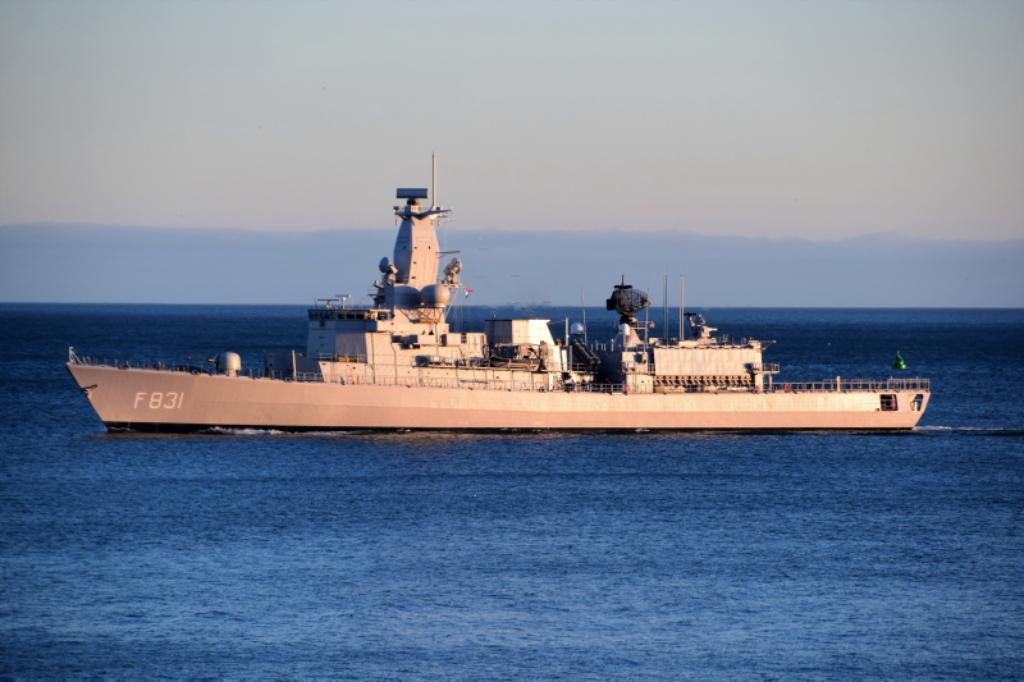Warship: (62, 145, 938, 435)
